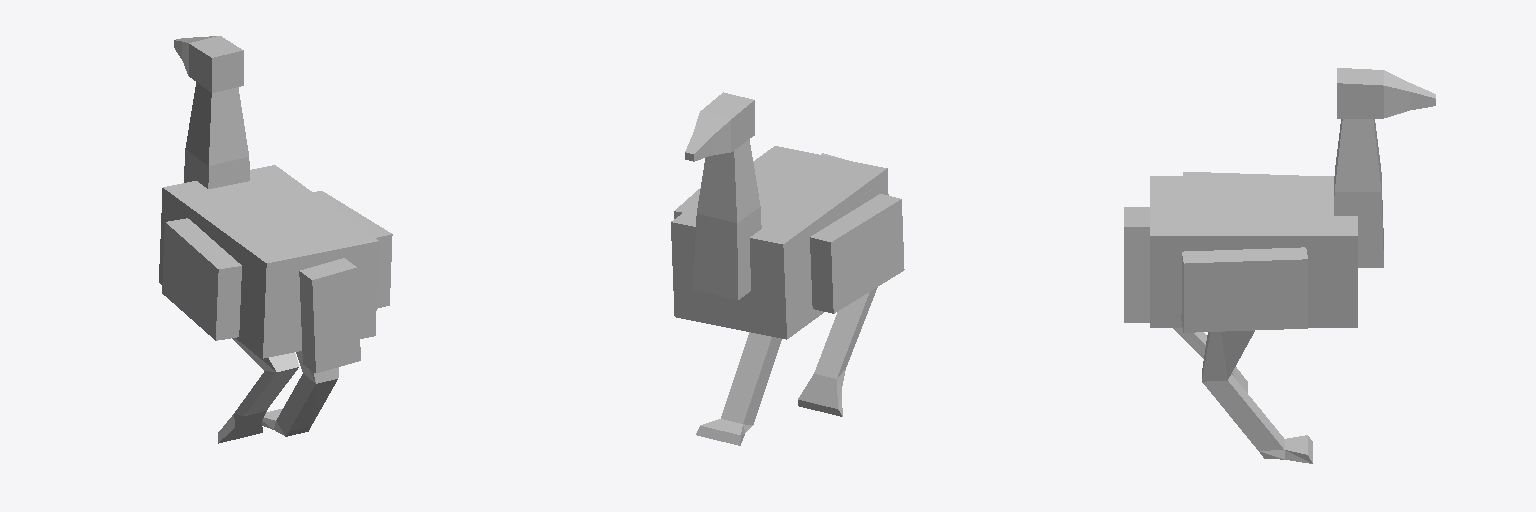
Rendered from Ostrich_000193.obj.
3 views of the same model, side by side, from view 1: azimuth 30°, elevation 25°; view 2: azimuth 150°, elevation 25°; view 3: azimuth 270°, elevation 25° (orthographic).
Visible parts, largest first — view 1: Cube_Cube.001; view 2: Cube_Cube.001; view 3: Cube_Cube.001.
Boxes of the visible parts, box(x1,y1,x2,y2) form: Cube_Cube.001: box(159, 36, 392, 443); Cube_Cube.001: box(671, 92, 904, 445); Cube_Cube.001: box(1124, 68, 1435, 463).
Size of the model in its own units: 0.7846 by 1.53 by 1.2.